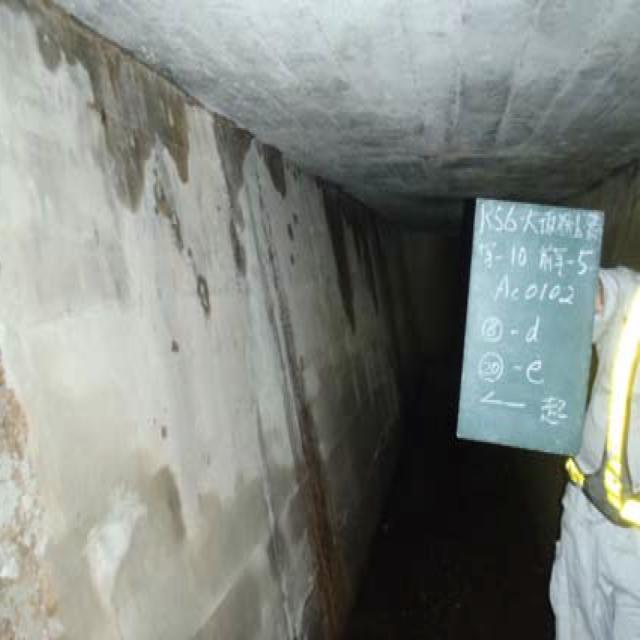leakage: (27, 4, 199, 223), (322, 179, 408, 357), (216, 114, 301, 280)
